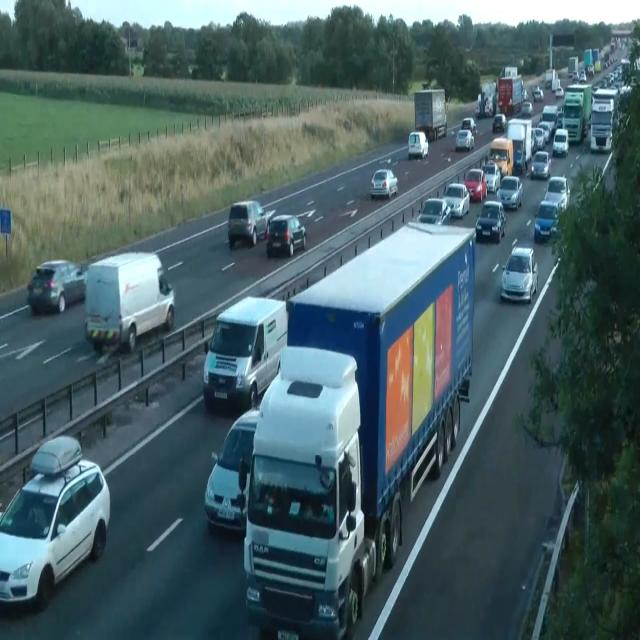bus: (0, 433, 110, 611), (204, 407, 260, 534), (26, 258, 88, 314), (500, 245, 538, 303), (266, 213, 306, 257), (475, 200, 506, 243), (533, 200, 561, 243), (442, 182, 470, 219), (544, 175, 570, 213), (497, 174, 523, 211), (417, 197, 451, 225), (370, 168, 398, 199), (463, 168, 487, 202), (530, 150, 551, 180), (408, 131, 428, 159), (482, 162, 500, 193), (552, 128, 568, 157), (455, 128, 474, 151), (532, 127, 546, 153), (538, 121, 552, 143), (461, 117, 477, 135), (492, 113, 506, 132), (532, 85, 544, 102), (522, 102, 532, 115), (579, 69, 587, 82), (555, 86, 563, 98), (571, 70, 579, 82), (522, 87, 527, 101)
car: (240, 343, 374, 637)
jeep: (202, 294, 288, 410), (227, 199, 267, 247)
minibus: (241, 221, 475, 638), (83, 250, 175, 354), (590, 86, 618, 153), (414, 87, 447, 141), (563, 83, 592, 143), (506, 118, 532, 174), (498, 66, 524, 115), (488, 137, 514, 176), (475, 80, 497, 118), (568, 56, 578, 76)
